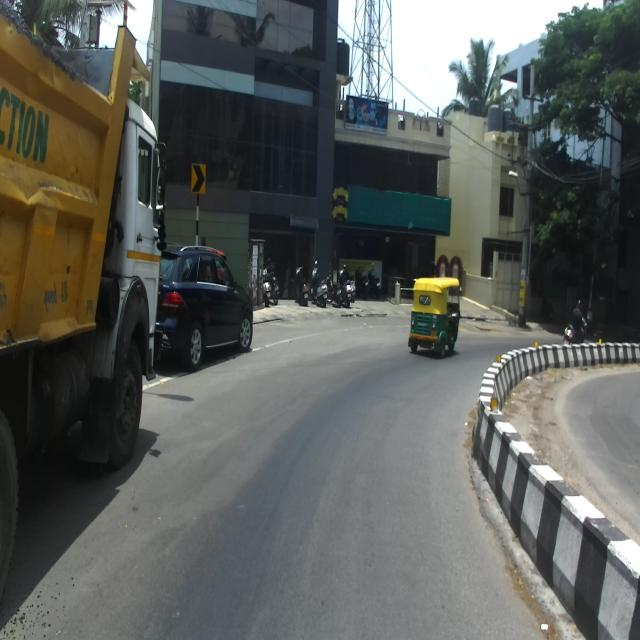auto ahead at: (408, 273, 464, 353)
car ahead at: (162, 242, 258, 381)
sign board ahead at: (186, 155, 211, 207)
truck ahead at: (0, 6, 157, 603)
